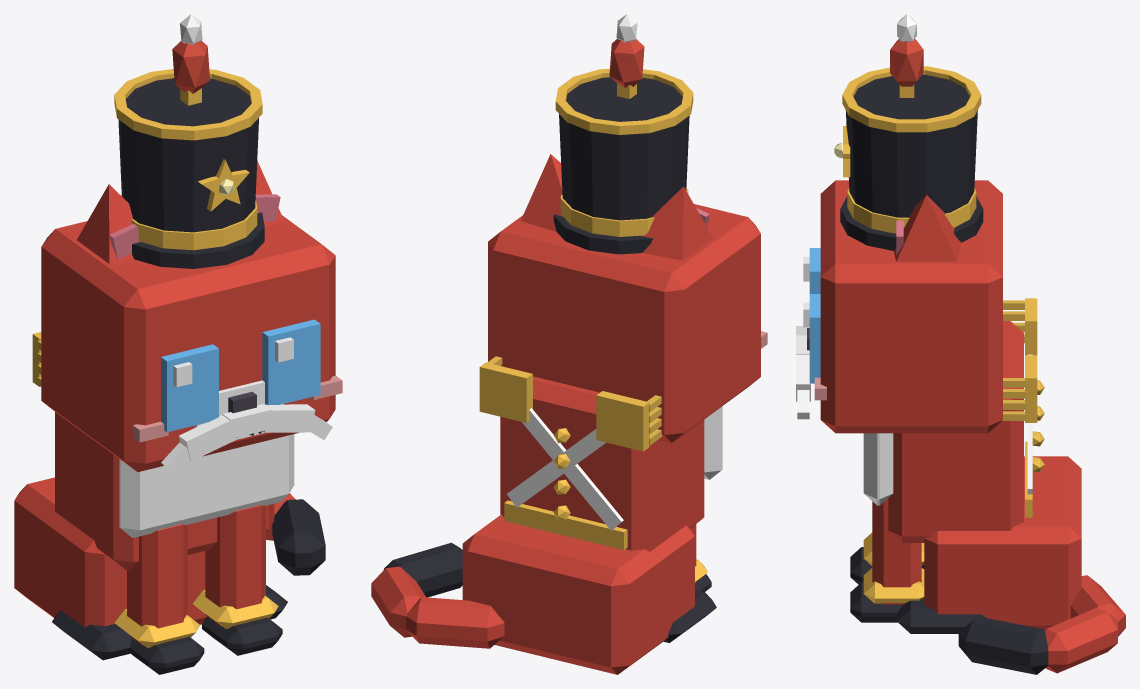
Rendered from CatCafe_Cat_Nutcracker_Sit.glb.
3 renders of one model, left to right at view 1: azimuth 30°, elevation 25°; view 2: azimuth 150°, elevation 25°; view 3: azimuth 270°, elevation 25°, orthographic. The views are drawn at different scales.
Parts seen in each view (by area): view 1: CatCafe_Cat_Nutcracker_Sit_Head, CatCafe_Cat_Nutcracker_Sit_Body, CatCafe_Cat_Nutcracker_Sit_Prop, CatCafe_Cat_Nutcracker_Sit_LegF1, CatCafe_Cat_Nutcracker_Sit_LegF2, CatCafe_Cat_Nutcracker_Sit_Eye1, CatCafe_Cat_Nutcracker_Sit_Eye2, CatCafe_Cat_Nutcracker_Sit_Tail, CatCafe_Cat_Nutcracker_Sit_EarR, CatCafe_Cat_Nutcracker_Sit_Badge_Glow, CatCafe_Cat_Nutcracker_Sit_EarL, CatCafe_Cat_Nutcracker_Sit_Prop2; view 2: CatCafe_Cat_Nutcracker_Sit_Body, CatCafe_Cat_Nutcracker_Sit_Head, CatCafe_Cat_Nutcracker_Sit_Prop, CatCafe_Cat_Nutcracker_Sit_Prop2, CatCafe_Cat_Nutcracker_Sit_Tail, CatCafe_Cat_Nutcracker_Sit_EarR, CatCafe_Cat_Nutcracker_Sit_EarL; view 3: CatCafe_Cat_Nutcracker_Sit_Head, CatCafe_Cat_Nutcracker_Sit_Body, CatCafe_Cat_Nutcracker_Sit_Prop, CatCafe_Cat_Nutcracker_Sit_Tail, CatCafe_Cat_Nutcracker_Sit_LegF1, CatCafe_Cat_Nutcracker_Sit_Prop2, CatCafe_Cat_Nutcracker_Sit_EarL, CatCafe_Cat_Nutcracker_Sit_Eye1, CatCafe_Cat_Nutcracker_Sit_LegF2, CatCafe_Cat_Nutcracker_Sit_Eye2.
Part boxes in pixels (x1,y1,x2,y2): CatCafe_Cat_Nutcracker_Sit_Head: [41, 215, 342, 471]; CatCafe_Cat_Nutcracker_Sit_Body: [14, 412, 294, 660]; CatCafe_Cat_Nutcracker_Sit_Prop: [114, 14, 332, 476]; CatCafe_Cat_Nutcracker_Sit_LegF1: [193, 505, 282, 655]; CatCafe_Cat_Nutcracker_Sit_LegF2: [114, 524, 204, 674]; CatCafe_Cat_Nutcracker_Sit_Eye1: [262, 319, 320, 405]; CatCafe_Cat_Nutcracker_Sit_Eye2: [161, 344, 218, 432]; CatCafe_Cat_Nutcracker_Sit_Tail: [266, 493, 325, 575]; CatCafe_Cat_Nutcracker_Sit_EarR: [77, 184, 140, 263]; CatCafe_Cat_Nutcracker_Sit_Badge_Glow: [198, 159, 249, 211]; CatCafe_Cat_Nutcracker_Sit_EarL: [255, 161, 284, 227]; CatCafe_Cat_Nutcracker_Sit_Prop2: [32, 332, 41, 386]; CatCafe_Cat_Nutcracker_Sit_Body: [462, 376, 722, 674]; CatCafe_Cat_Nutcracker_Sit_Head: [488, 204, 767, 442]; CatCafe_Cat_Nutcracker_Sit_Prop: [553, 14, 693, 254]; CatCafe_Cat_Nutcracker_Sit_Prop2: [479, 356, 662, 549]; CatCafe_Cat_Nutcracker_Sit_Tail: [371, 542, 504, 648]; CatCafe_Cat_Nutcracker_Sit_EarR: [640, 186, 713, 260]; CatCafe_Cat_Nutcracker_Sit_EarL: [520, 154, 562, 231]; CatCafe_Cat_Nutcracker_Sit_Head: [807, 180, 1002, 433]; CatCafe_Cat_Nutcracker_Sit_Body: [863, 321, 1081, 633]; CatCafe_Cat_Nutcracker_Sit_Prop: [796, 14, 983, 419]; CatCafe_Cat_Nutcracker_Sit_Tail: [958, 575, 1125, 674]; CatCafe_Cat_Nutcracker_Sit_LegF1: [850, 498, 924, 622]; CatCafe_Cat_Nutcracker_Sit_Prop2: [1002, 298, 1044, 517]; CatCafe_Cat_Nutcracker_Sit_EarL: [893, 195, 961, 261]; CatCafe_Cat_Nutcracker_Sit_Eye1: [803, 294, 820, 383]; CatCafe_Cat_Nutcracker_Sit_LegF2: [850, 532, 924, 584]; CatCafe_Cat_Nutcracker_Sit_Eye2: [803, 248, 820, 293].
Bounding box in the file's own units: 1.24 × 2.48 × 1.27.
Materials: 1 (1 with a texture image).
